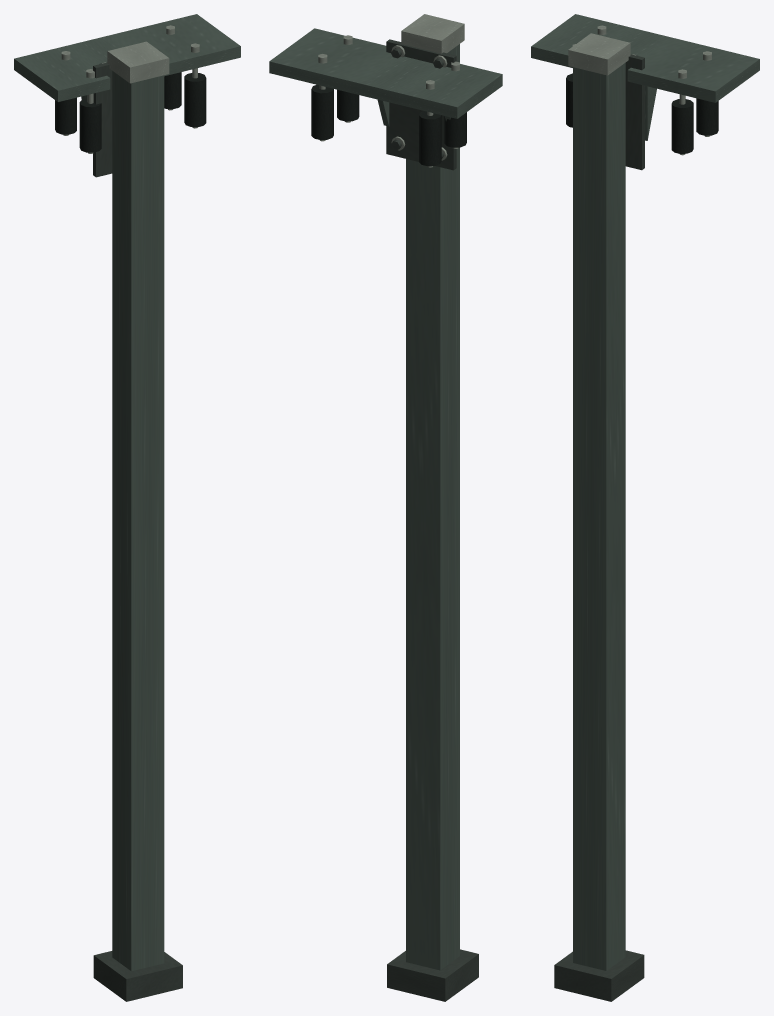
Rendered from SG_GuidePost_Reverse.glb.
3 views of the same model, side by side, from view 1: azimuth 30°, elevation 25°; view 2: azimuth 150°, elevation 25°; view 3: azimuth 330°, elevation 25° (orthographic). The views are drawn at different scales.
Visible parts, largest first — view 1: SG_Post_Right_Reverse; view 2: SG_Post_Right_Reverse; view 3: SG_Post_Right_Reverse.
Boxes of the visible parts, x1,y1,x2,y2 form: SG_Post_Right_Reverse: (14, 14, 240, 1001); SG_Post_Right_Reverse: (269, 14, 502, 1001); SG_Post_Right_Reverse: (531, 14, 759, 1001).
Size of the model in its own units: 0.42 by 2.04 by 0.265.
1 material, 1 textured.
